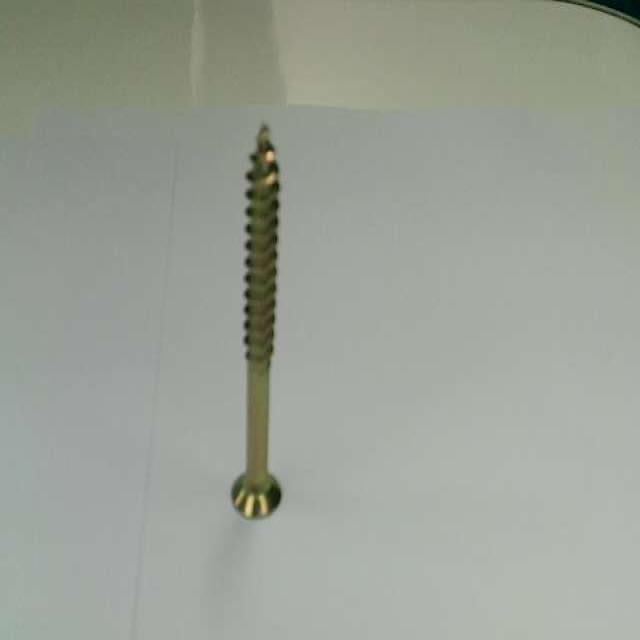Parafuso: (232, 127, 280, 517)
